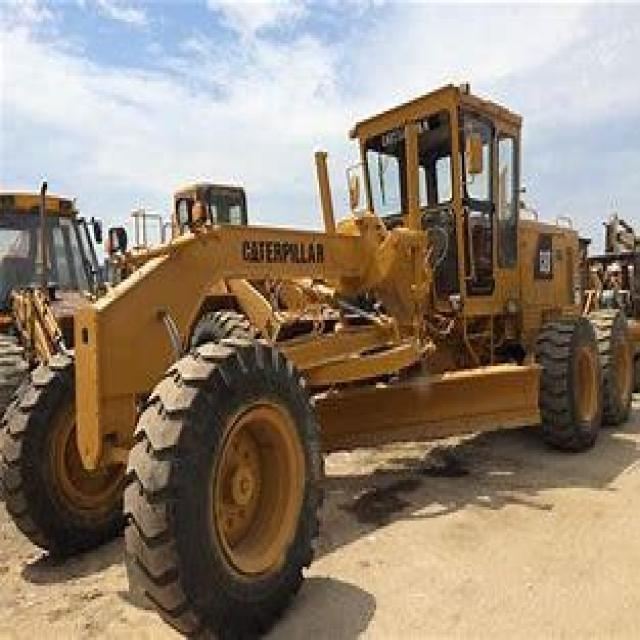buldozerpayloadergrader: (10, 62, 636, 638)
